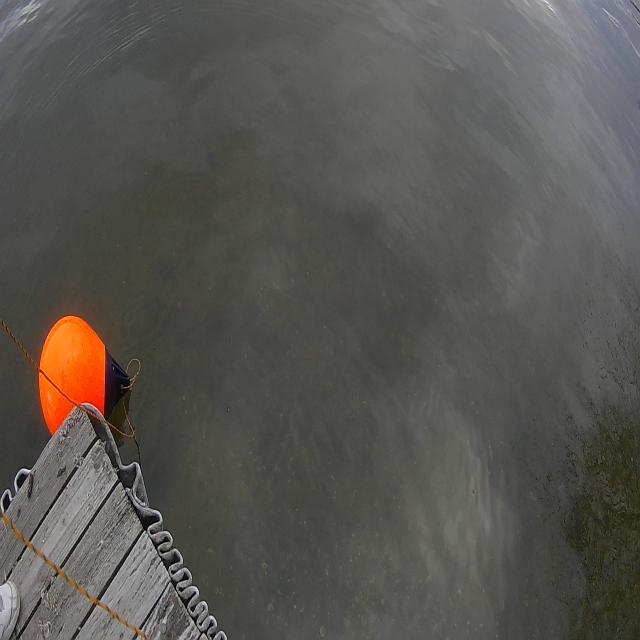Buoy: (34, 319, 112, 442)
